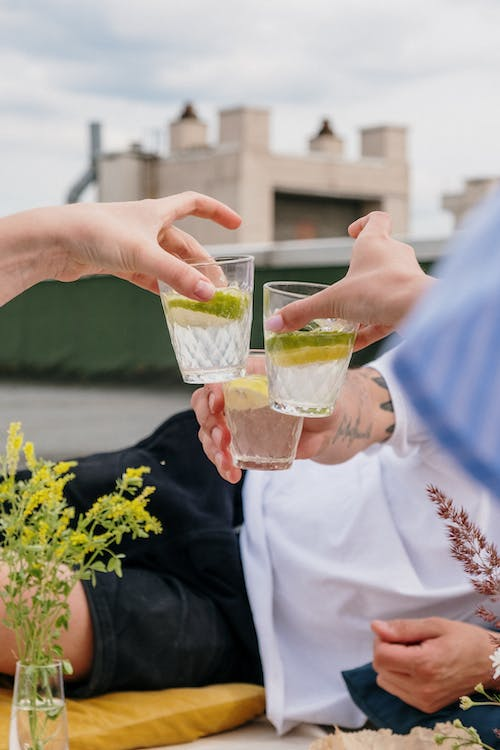alcohol: (260, 278, 363, 421), (156, 252, 257, 385), (220, 347, 306, 474)
